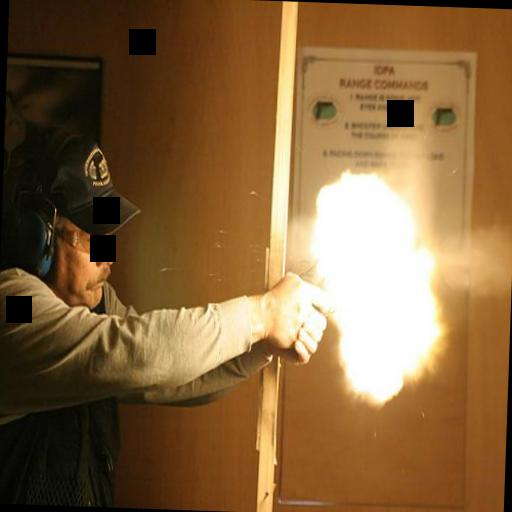Handgun: (280, 249, 362, 355)
